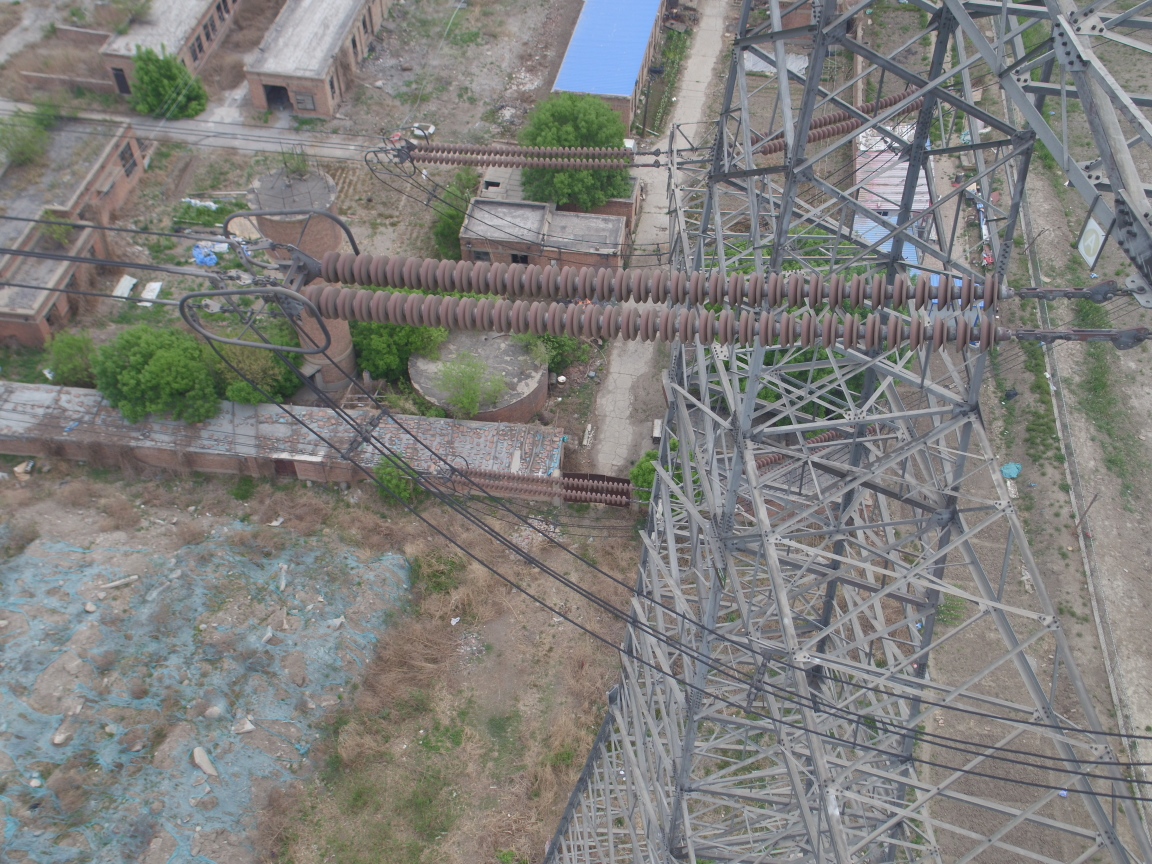insulator: (290, 244, 1072, 353), (404, 135, 644, 172)
